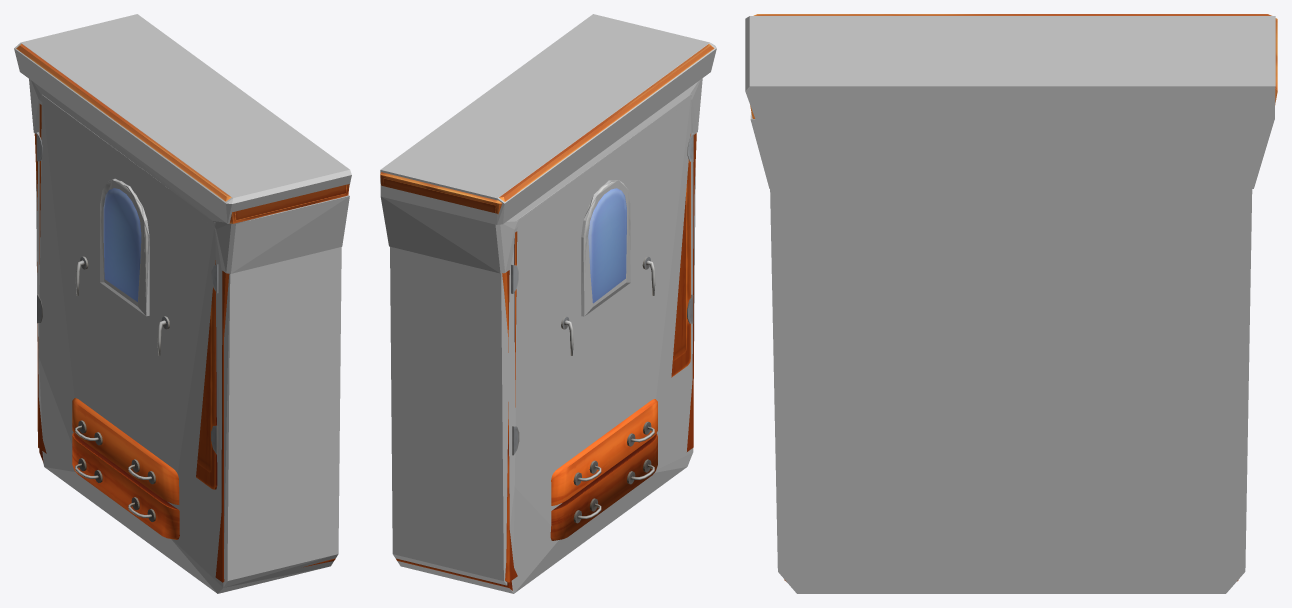
The model's file is SM_Wardrobe01.fbx.
The picture shows the model from 3 angles, left to right: view 1: azimuth 30°, elevation 25°; view 2: azimuth 150°, elevation 25°; view 3: azimuth 270°, elevation 25°; orthographic projection. The views are drawn at different scales.
Visible parts, largest first — view 1: SM_Wardrobe01_ConvexHulls, SM_Wardrobe01; view 2: SM_Wardrobe01_ConvexHulls, SM_Wardrobe01; view 3: SM_Wardrobe01_ConvexHulls, SM_Wardrobe01.
Boxes of the visible parts, x1=… form: SM_Wardrobe01_ConvexHulls: x1=14, y1=14, x2=351, y2=593; SM_Wardrobe01: x1=16, y1=43, x2=349, y2=582; SM_Wardrobe01_ConvexHulls: x1=380, y1=14, x2=716, y2=593; SM_Wardrobe01: x1=380, y1=44, x2=714, y2=590; SM_Wardrobe01_ConvexHulls: x1=745, y1=16, x2=1275, y2=593; SM_Wardrobe01: x1=750, y1=14, x2=1277, y2=581.
Bounding box in the file's own units: 80.05 × 217 × 228.
Materials: 2 (1 with a texture image).
